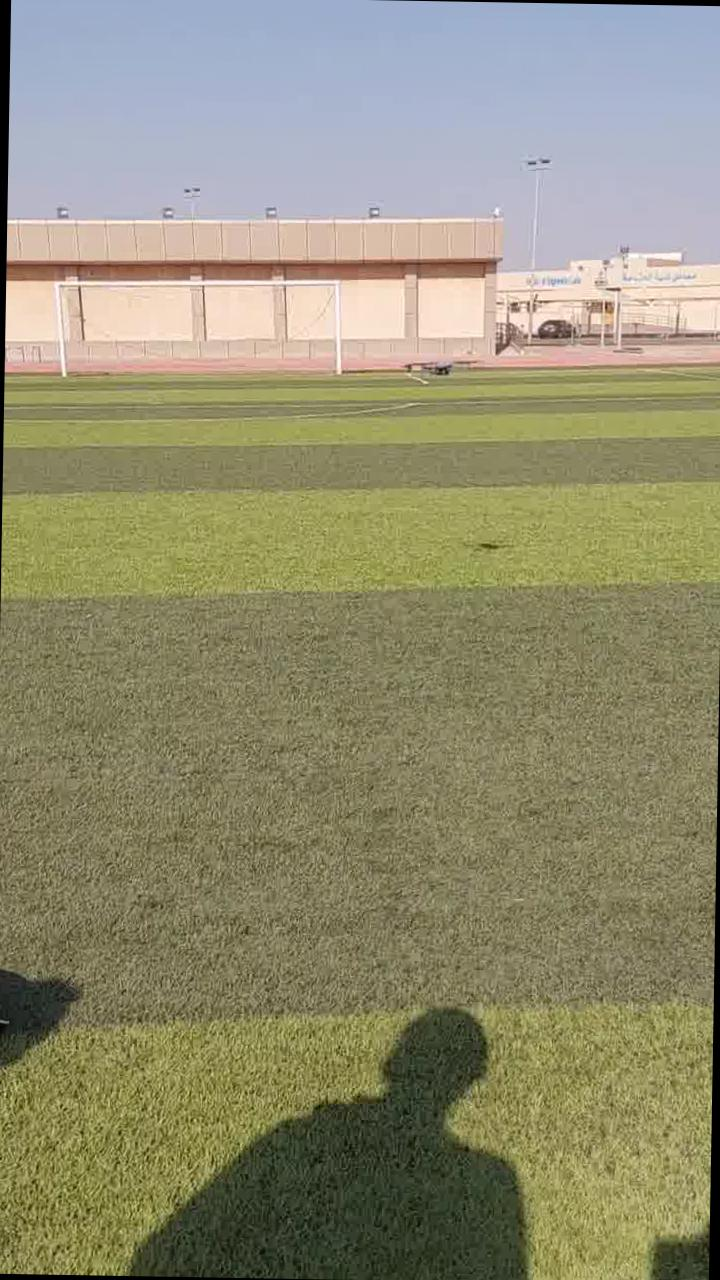drone: (389, 342, 477, 396)
